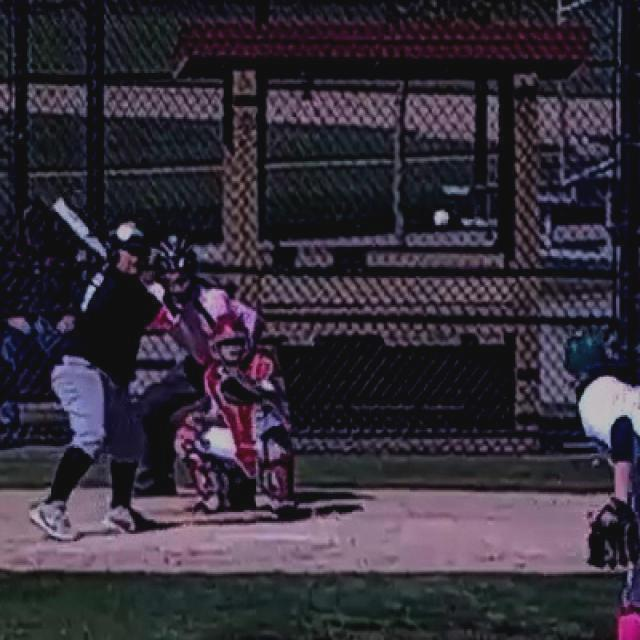baseball bat: (51, 198, 109, 260)
sports ball: (432, 209, 452, 227)
